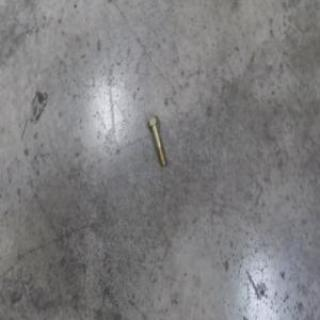Bolttrack_idkeyframe: (143, 117, 163, 168)
